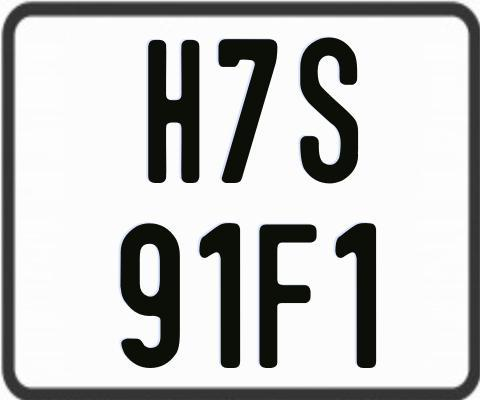1: (333, 221, 380, 366), (197, 223, 238, 368)
7: (216, 38, 276, 186)
9: (117, 221, 181, 369)
F: (257, 222, 315, 367)
H: (145, 37, 200, 185)
S: (300, 34, 362, 183)
